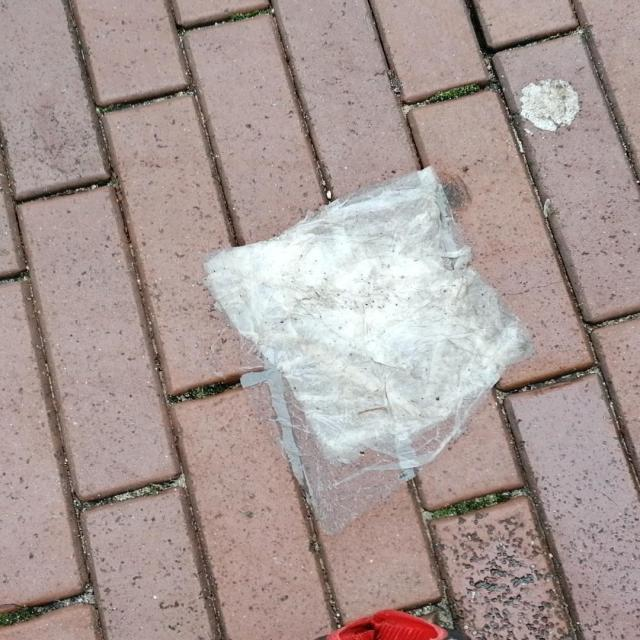Paper: (196, 162, 538, 538)
